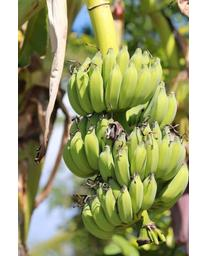banana: (62, 43, 187, 242)
